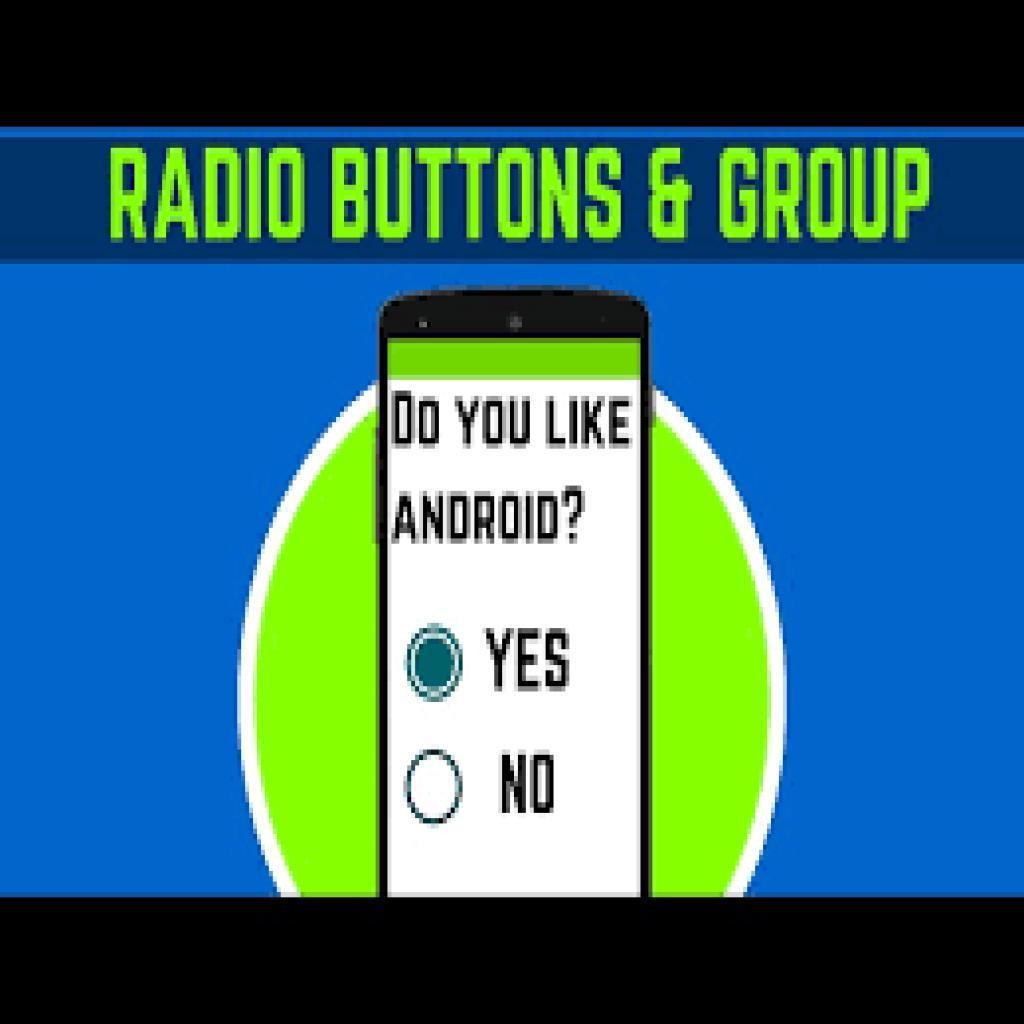radio: (402, 624, 465, 704), (402, 747, 465, 826)
